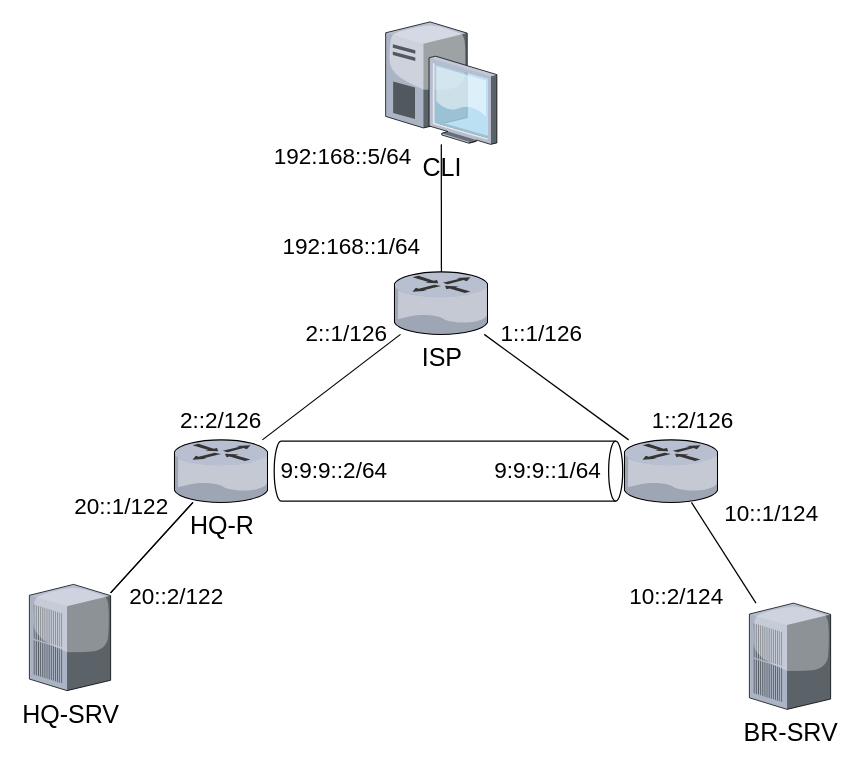
Some shapes in this 859 by 769 pixel diagram are drawn without their labels. The box of each missing label's shape, as (x1, y1, x2, y2) in pixels:
BR-R: (624, 439, 718, 502)
WireGuard: (273, 440, 623, 501)
